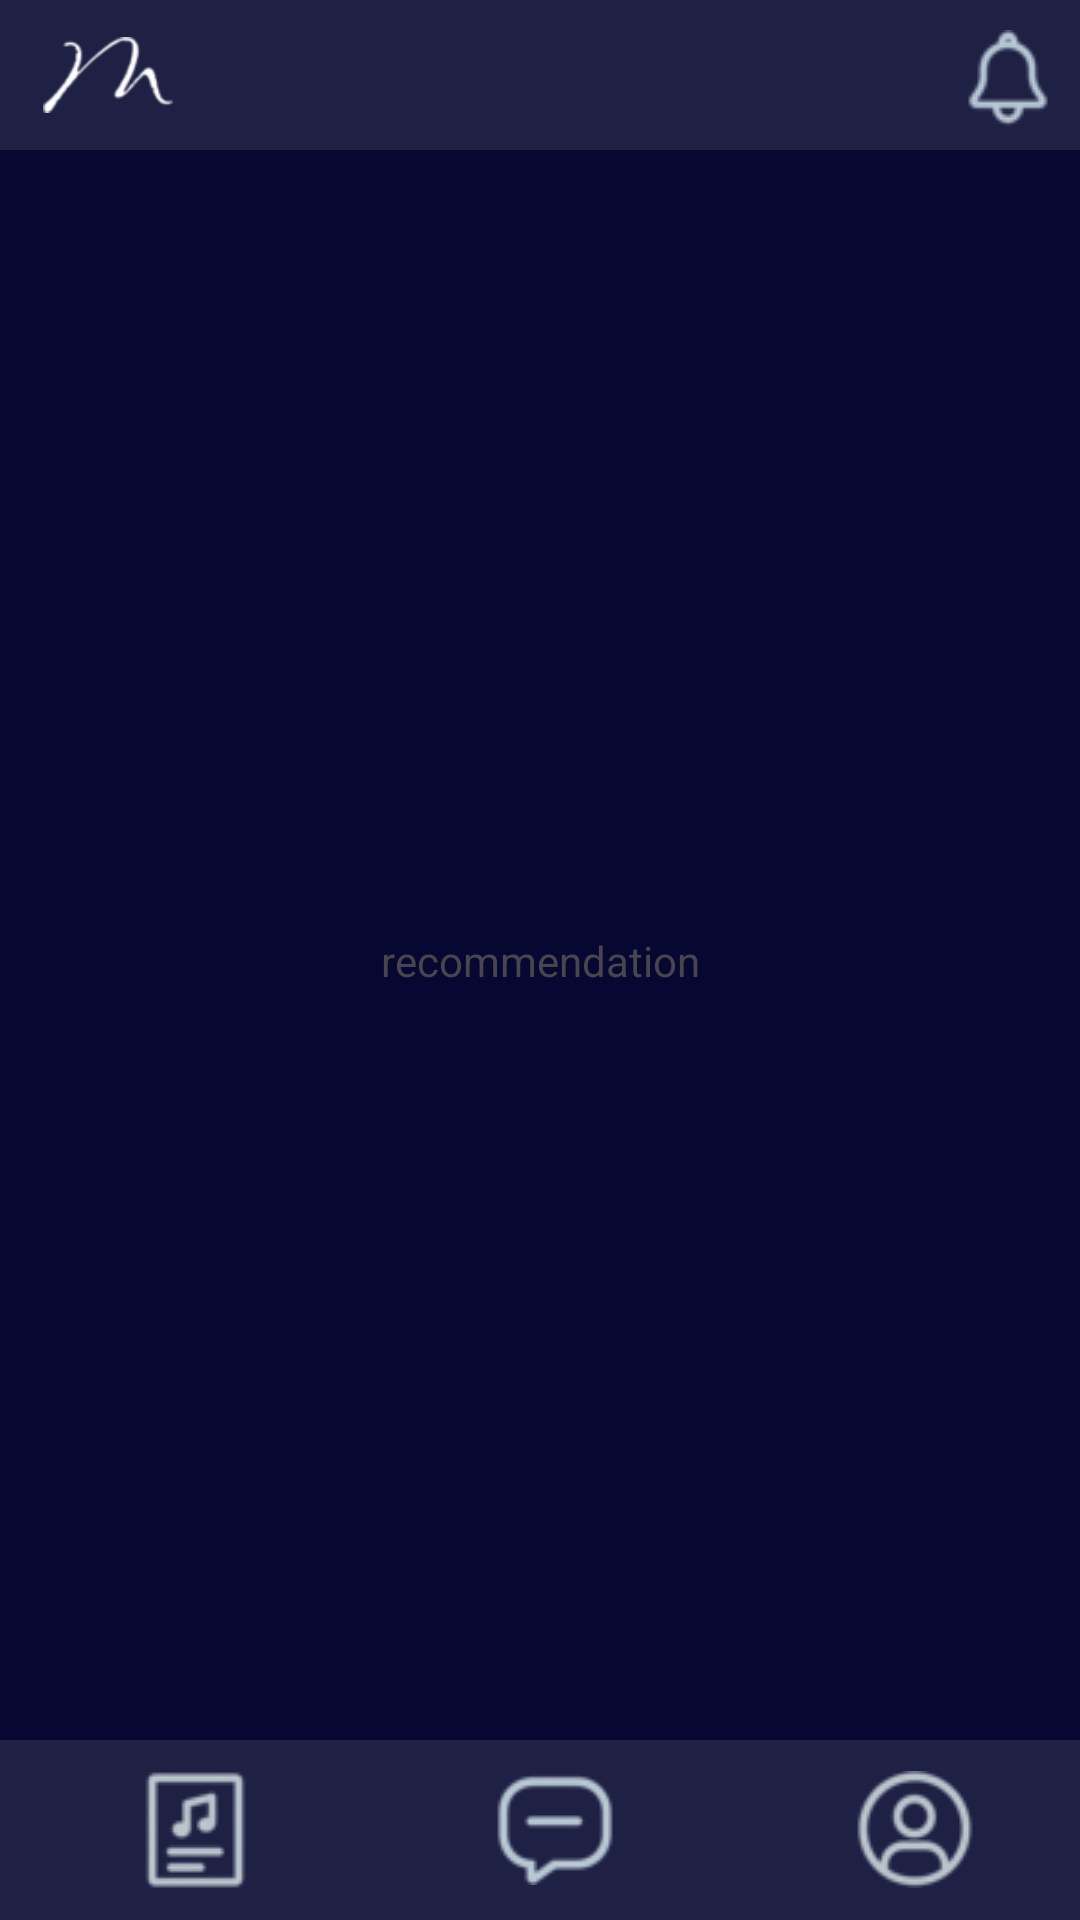

Named icons in this screenshot (1080w x 1920h) and their centers, [x,y]:
bell: [1008,77]
feed: [195,1830]
profile: [914,1829]
